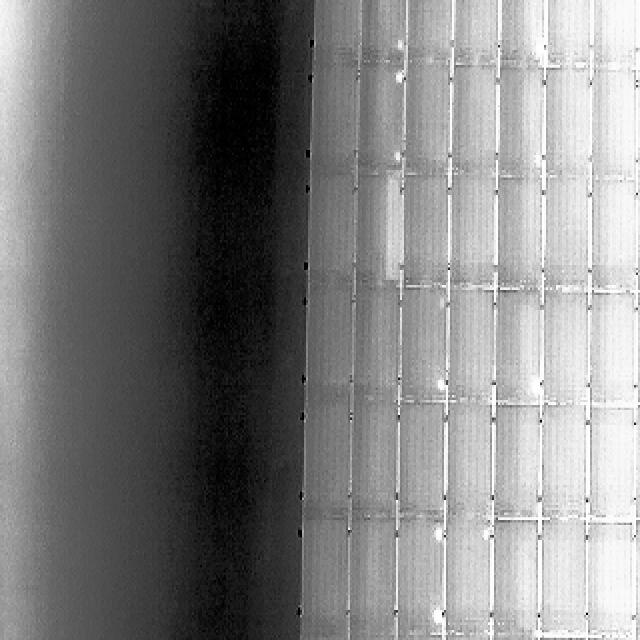Hotspots: (530, 146, 546, 172), (390, 67, 408, 87), (533, 36, 548, 58), (385, 146, 401, 166), (392, 35, 408, 55), (433, 370, 448, 390), (531, 375, 545, 394), (535, 44, 547, 60), (432, 608, 443, 625), (432, 526, 443, 542), (520, 637, 544, 640)
PV-modules: (394, 518, 446, 638), (488, 520, 540, 638), (538, 519, 589, 638), (347, 518, 398, 637), (542, 176, 594, 292), (440, 518, 492, 634), (350, 398, 400, 518), (582, 522, 634, 637), (310, 64, 361, 181), (583, 410, 634, 526), (398, 400, 448, 518), (494, 291, 544, 409), (442, 398, 491, 518), (306, 286, 355, 406), (490, 404, 541, 519), (444, 289, 495, 404), (353, 172, 404, 287), (300, 520, 350, 636), (585, 294, 635, 409), (540, 404, 590, 519), (400, 66, 450, 181), (401, 288, 450, 405), (302, 401, 351, 518), (586, 178, 636, 292), (352, 288, 402, 402), (400, 175, 450, 288), (542, 291, 590, 408), (496, 69, 546, 181), (448, 68, 498, 179), (354, 66, 404, 176), (545, 70, 594, 182), (447, 177, 497, 286), (587, 71, 635, 184), (496, 178, 544, 290), (309, 176, 357, 286), (588, 0, 637, 70), (314, 0, 366, 65), (405, 0, 456, 66), (358, 0, 407, 68), (546, 0, 594, 69), (497, 0, 545, 69), (452, 0, 500, 68), (630, 520, 640, 638), (630, 410, 640, 522), (632, 292, 640, 410), (632, 70, 640, 185), (632, 178, 640, 292), (634, 0, 640, 70), (486, 635, 540, 640), (344, 635, 396, 640), (438, 635, 490, 640), (392, 635, 444, 640), (582, 635, 632, 640), (536, 637, 588, 640), (296, 637, 346, 640), (628, 635, 640, 640)
